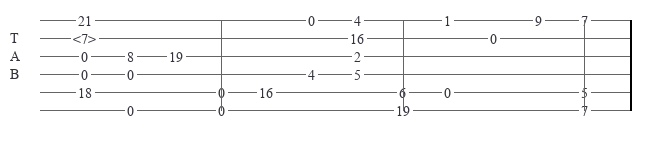0: (81, 49, 92, 63), (81, 67, 92, 81), (127, 67, 138, 81), (127, 103, 138, 117), (218, 103, 229, 117), (218, 85, 229, 99), (308, 13, 319, 27), (444, 85, 455, 99), (490, 31, 501, 45)
1: (444, 13, 455, 27)
16: (259, 85, 277, 99), (350, 31, 368, 45)
18: (78, 85, 96, 99)
19: (169, 49, 187, 63), (396, 103, 414, 117)
2: (354, 49, 365, 63)
21: (78, 13, 96, 27)
4: (308, 67, 319, 81), (354, 13, 365, 27)
5: (354, 67, 365, 81), (581, 85, 592, 99)
6: (399, 85, 410, 99)
7: (581, 103, 592, 117), (581, 13, 592, 27)
8: (127, 49, 138, 63)
9: (535, 13, 546, 27)
harmonic: (73, 31, 100, 45)
